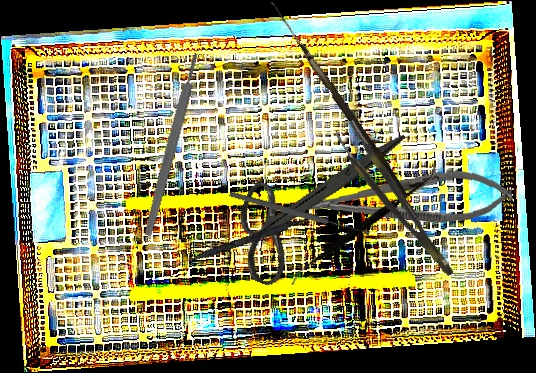Hook Surgical: (261, 0, 412, 200)
Iris Scissors: (219, 90, 406, 313)
Needle Holder: (298, 166, 514, 232)
Scalpel Handle: (142, 52, 202, 237)
Spatula Surgical: (288, 129, 439, 319), (164, 209, 321, 274)
Surgical Spoon: (228, 190, 371, 238)
Tissue Forceps: (332, 119, 456, 286)
